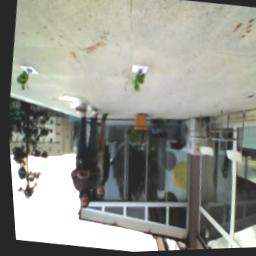herb: (128, 69, 147, 96), (14, 69, 32, 92)
